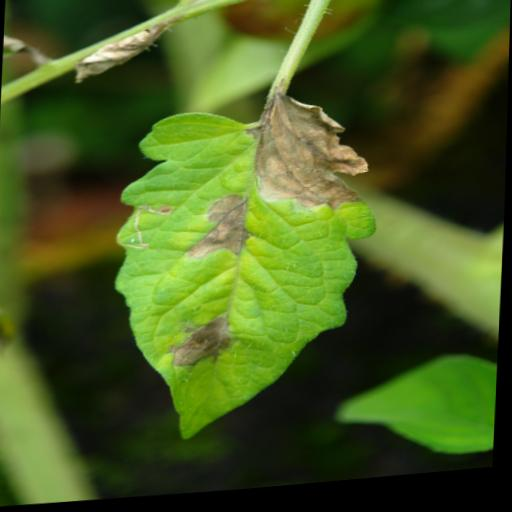Late Blight: (99, 88, 389, 461)
